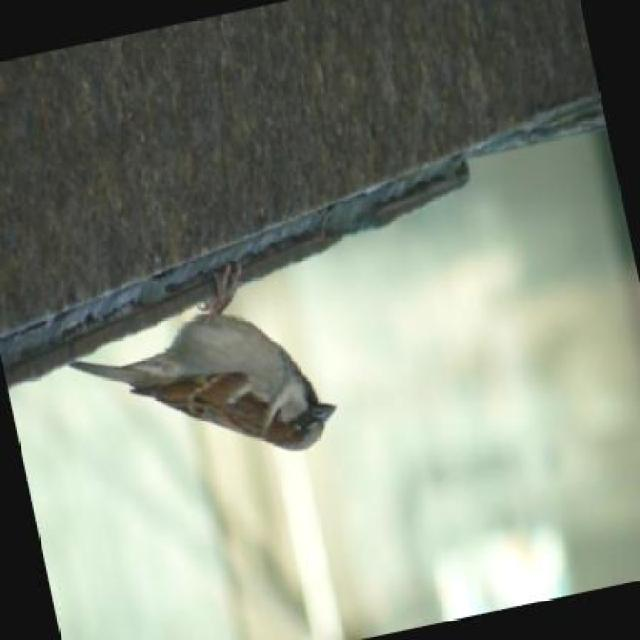sparrow: (52, 248, 345, 498)
